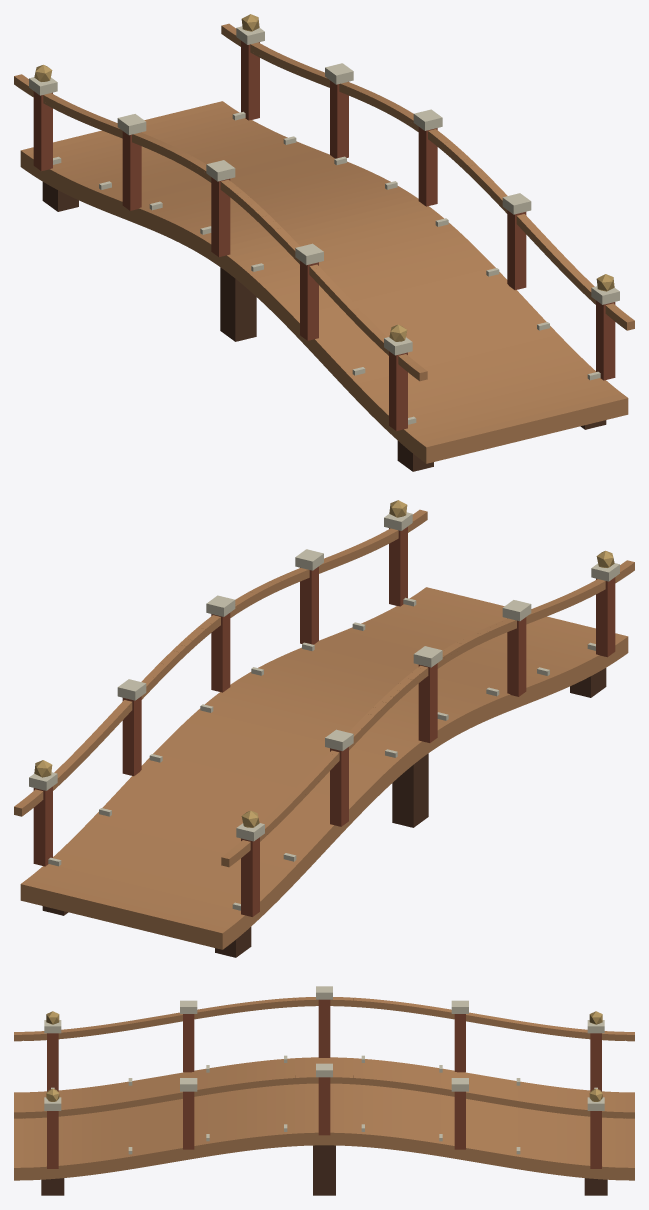
Rendered from Backyard_StreamBridge_Showcase.glb.
3 views of the same model, one above another, from view 1: azimuth 30°, elevation 25°; view 2: azimuth 150°, elevation 25°; view 3: azimuth 270°, elevation 25° (orthographic). The views are drawn at different scales.
Visible parts, largest first — view 1: Backyard_StreamBridge_Showcase; view 2: Backyard_StreamBridge_Showcase; view 3: Backyard_StreamBridge_Showcase.
Part boxes in pixels (x1,y1,x2,y2): Backyard_StreamBridge_Showcase: (14, 14, 634, 471); Backyard_StreamBridge_Showcase: (14, 500, 634, 957); Backyard_StreamBridge_Showcase: (14, 986, 634, 1195).
Size of the model in its own units: 2.56 by 1.87 by 8.
